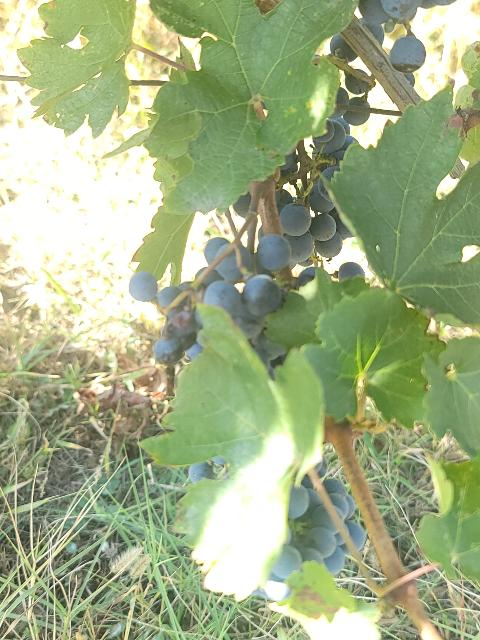grapes: (129, 234, 291, 366), (276, 119, 358, 288), (270, 485, 345, 582)
